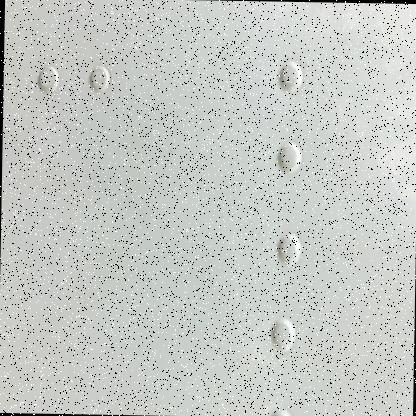Nocrack: (0, 14, 400, 415)
